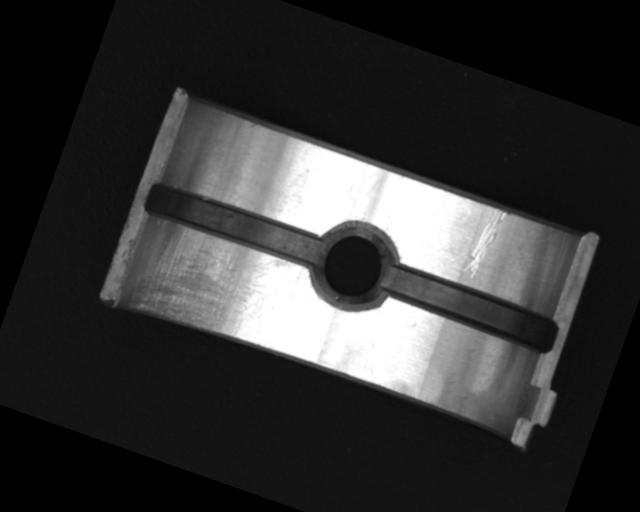gap: (142, 175, 329, 274), (380, 259, 563, 356)
hole: (300, 213, 407, 321)
nick: (460, 203, 509, 283)
scratch: (121, 214, 289, 357)
